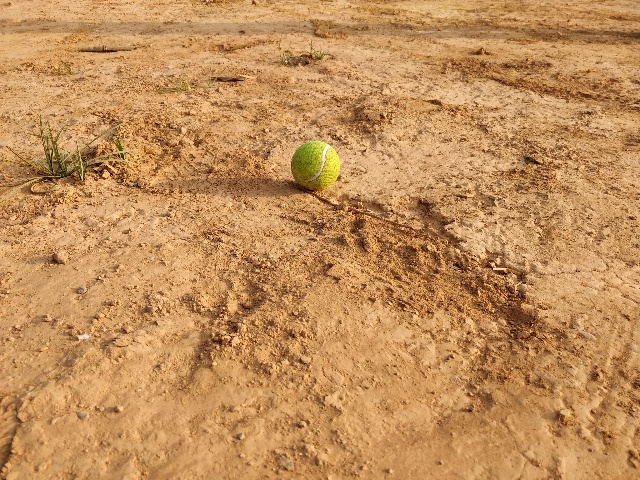ball: (287, 138, 344, 192)
